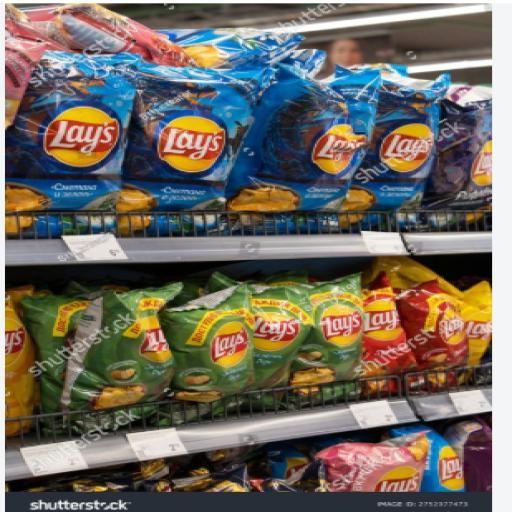green_chips: (60, 284, 182, 412), (161, 286, 255, 403), (22, 296, 91, 412), (292, 274, 362, 385), (249, 286, 313, 390), (208, 271, 243, 293)
